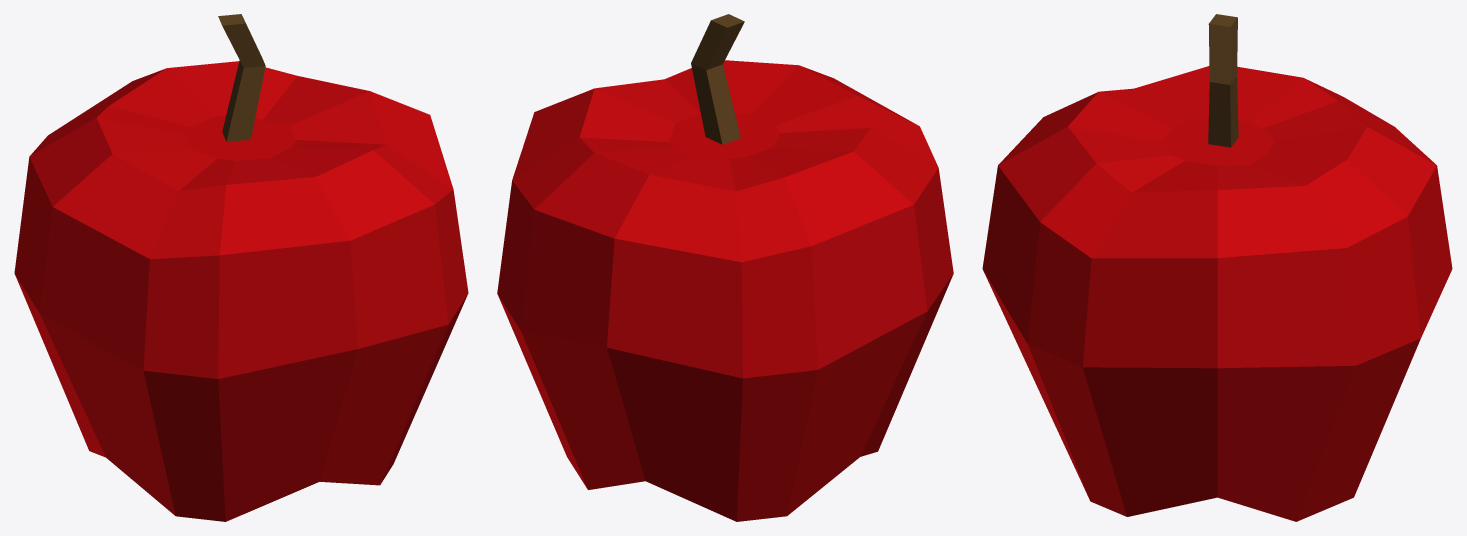
The model's file is Apple.fbx.
3 views of the same model, side by side, from view 1: azimuth 30°, elevation 25°; view 2: azimuth 150°, elevation 25°; view 3: azimuth 270°, elevation 25° (orthographic).
Visible parts, largest first — view 1: Appel; view 2: Appel; view 3: Appel.
Part boxes in pixels (x1=…): Appel: x1=14, y1=14, x2=468, y2=521; Appel: x1=497, y1=14, x2=953, y2=521; Appel: x1=982, y1=14, x2=1452, y2=521.
Bounding box in the file's own units: 0.2639 × 0.2729 × 0.2639.
